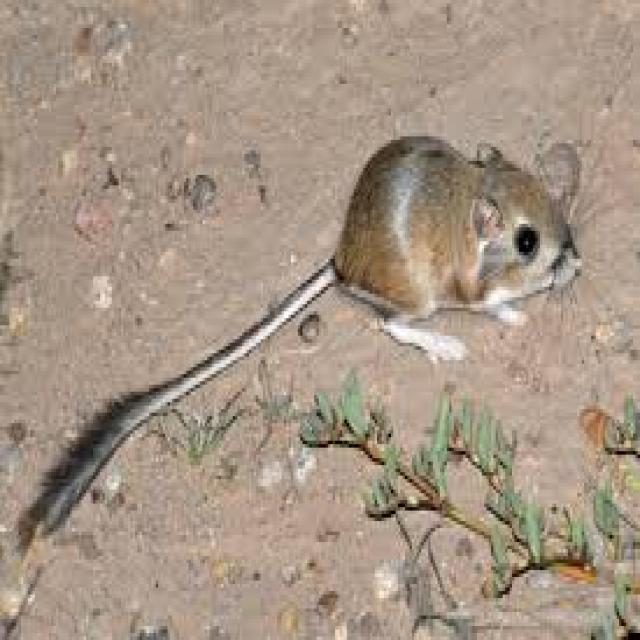rat: (23, 129, 582, 535), (330, 129, 582, 364)
